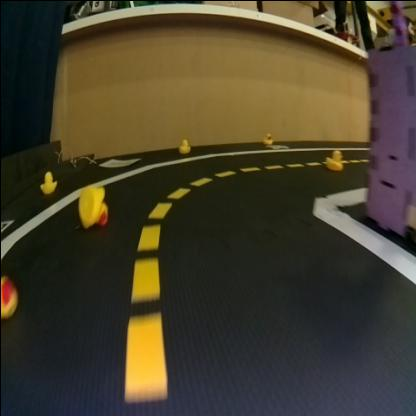Duckie: (78, 184, 106, 226), (1, 274, 15, 312), (39, 170, 55, 192), (326, 148, 342, 169), (178, 138, 188, 152), (262, 134, 270, 142)
QR code: (267, 143, 285, 151)
